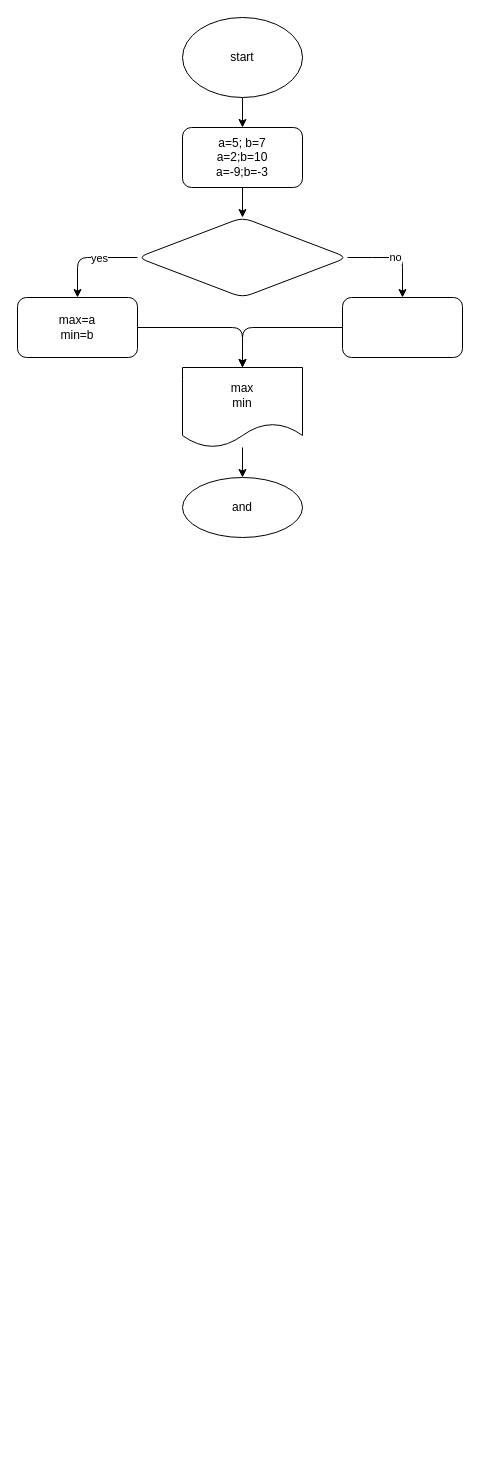
Some shapes in this 480 by 1471 pixel diagram are drawn without their labels. The box of each missing label's shape, as (x1, y1, x2, y2) in pixels:
a>b: (136, 216, 348, 298)
max=b min=a: (342, 296, 462, 358)
